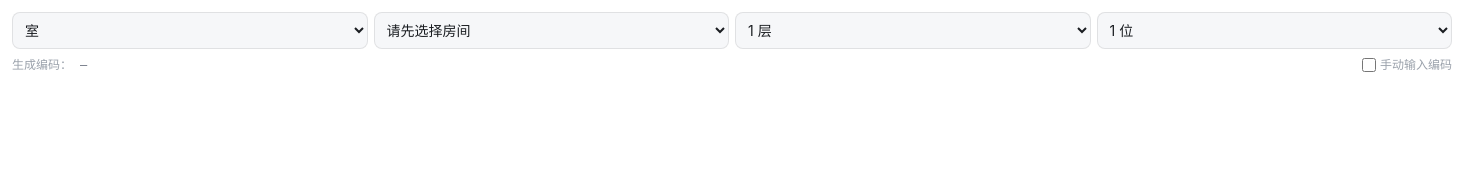
Test: 库位选择器（LocationPicker） › 室 → 元素 → 层 → 位 联动生成编码
Expected: the dropdown named "库位元素" is disabled, [374, 12, 729, 49]
Select "1030 库房" in the dropdown named "房间". click: (190, 30)
box: [12, 12, 368, 49]
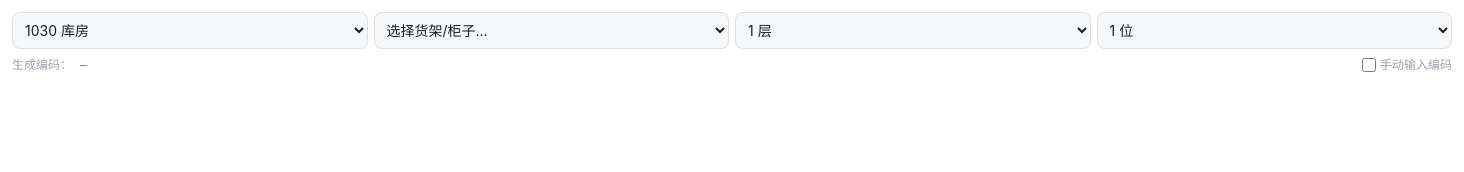
Expected: the dropdown named "库位元素" is enabled
Select "A货架（1030-A）· 立体货架 / 4 层 × 8 位" in the dropdown named "库位元素". click: (551, 30)
box: [374, 12, 729, 49]
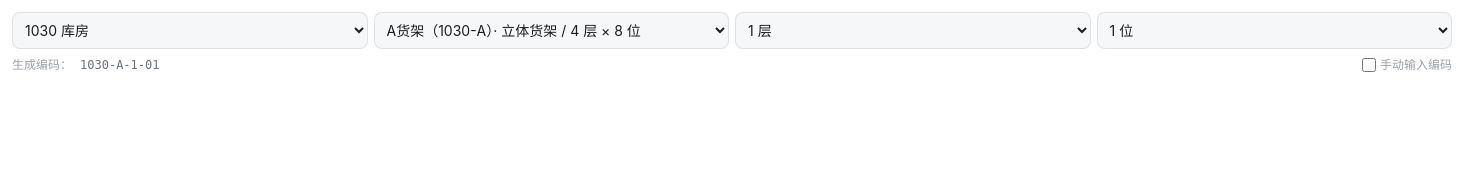
Select "3 层" in the dropdown named "层". click: (913, 30)
box: [735, 12, 1090, 49]
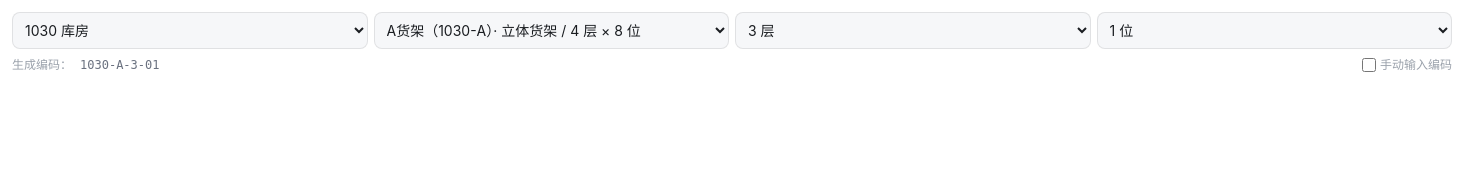
Select "5 位" in the dropdown named "位". click: (1274, 30)
box: [1096, 12, 1452, 49]
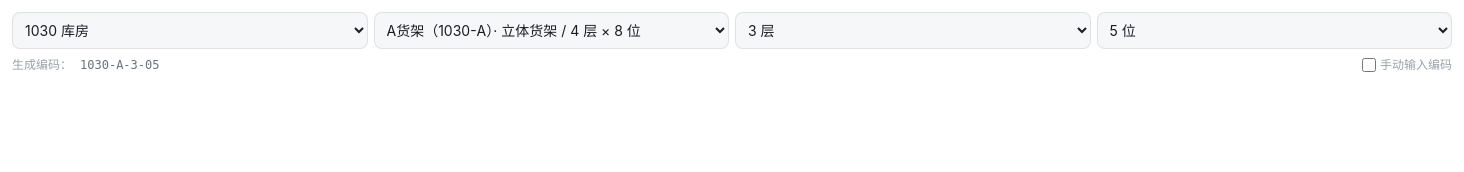
Expected: the text "1030-A-3-05" is shown, [80, 57, 160, 73]
